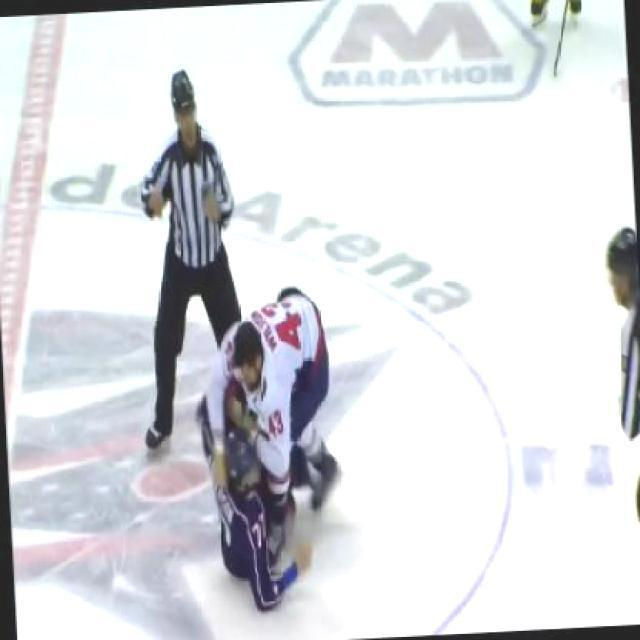fight: (190, 281, 353, 614)
